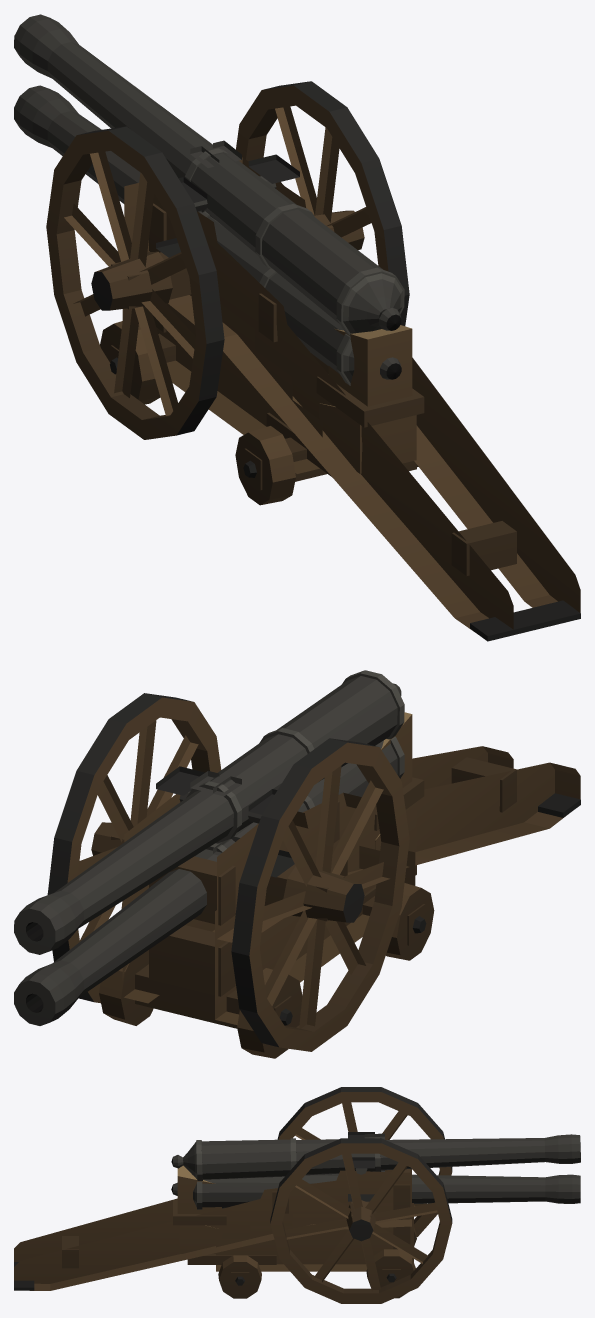
Rendered from saker.glb.
3 views of the same model, one above another, from view 1: azimuth 30°, elevation 25°; view 2: azimuth 150°, elevation 25°; view 3: azimuth 270°, elevation 25° (orthographic). The views are drawn at different scales.
Parts seen in each view (by area): view 1: saker, saker_truck; view 2: saker, saker_truck; view 3: saker, saker_truck.
Part boxes in pixels (x1,y1,x2,y2): saker: (14,14,580,641); saker_truck: (14,85,418,505); saker: (14,670,580,1051); saker_truck: (14,736,434,1058); saker: (14,1087,580,1303); saker_truck: (171,1170,580,1298).
Bounding box in the file's own units: 4.08 × 4.44 × 14.04.
